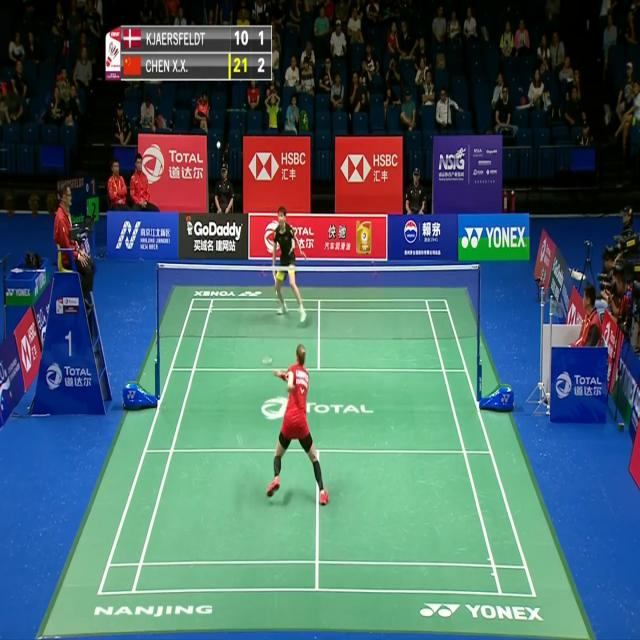Player1: (262, 340, 330, 510)
Player2: (267, 197, 311, 327)
